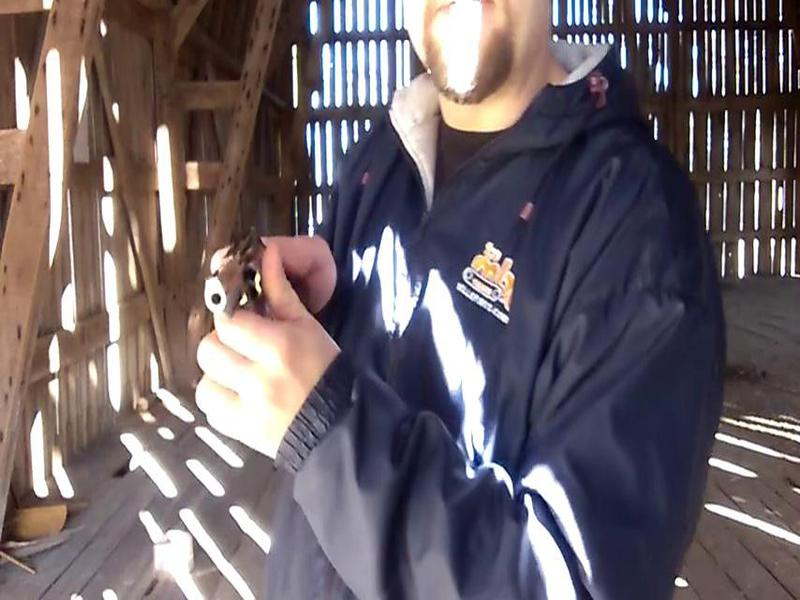Revolver: (176, 205, 294, 354)
